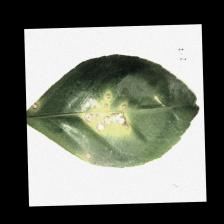canker: (66, 79, 156, 145)
